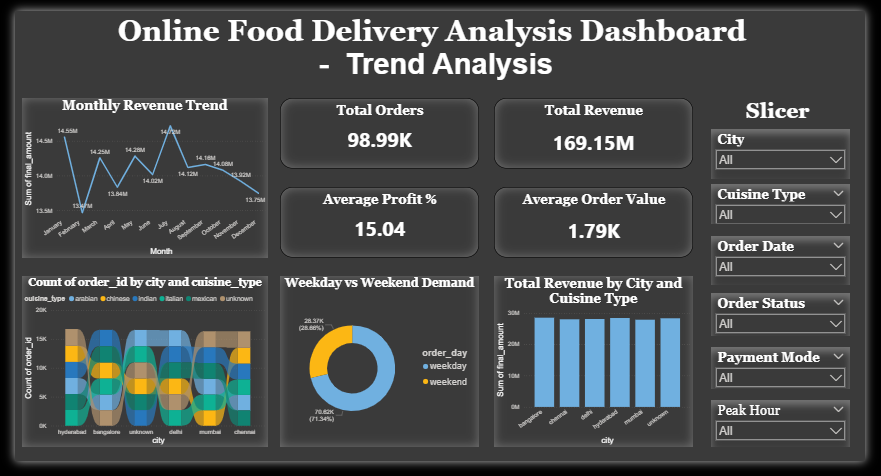

Layout of this report page (visuals, bound fields, positions):
{"tool":"powerbi","page":{"name":"Trend Analysis","canvas":[1700,900],"ordinal":0},"visuals":[{"type":"card","title":"Total Orders","fields":{"Values":["CountNonNull(online_food_cleaned.order_id)"]},"box":[530.1,173.7,398.5,140.8],"z":0},{"type":"card","title":"Total Revenue","fields":{"Values":["Sum(online_food_cleaned.final_amount)"]},"box":[957.8,173.7,398.5,140.8],"z":1000},{"type":"card","title":"Average Order Value","fields":{"Values":["Avg(online_food_cleaned.order_value)"]},"box":[957.8,352.8,398.5,140.8],"z":2000},{"type":"card","title":"Average Profit %","fields":{"Values":["Avg(online_food_cleaned.profit_margin_per)"]},"box":[530.1,352.8,398.5,140.8],"z":6000},{"type":"ribbonChart","fields":{"Category":["online_food_cleaned.city"],"Y":["CountNonNull(online_food_cleaned.order_id)"],"Series":["online_food_cleaned.cuisine_type"]},"box":[14.6,530.1,491.7,341.8],"z":7000},{"type":"donutChart","title":"Weekday vs Weekend Demand","fields":{"Category":["online_food_cleaned.order_day"],"Y":["CountNonNull(online_food_cleaned.order_id)"]},"box":[530.1,530.1,398.5,341.8],"z":9000},{"type":"lineChart","title":"Monthly Revenue Trend","fields":{"Category":["online_food_cleaned.order_date.Variation.Date Hierarchy.Month"],"Y":["Sum(online_food_cleaned.final_amount)"]},"box":[14.6,173.7,491.7,319.9],"z":10000},{"type":"columnChart","title":"Total Revenue by City and Cuisine Type","fields":{"Category":["online_food_cleaned.cuisine_type","online_food_cleaned.city"],"Y":["Sum(online_food_cleaned.final_amount)"]},"box":[957.8,530.1,398.5,341.8],"z":12001},{"type":"slicer","fields":{"Values":["online_food_cleaned.city"]},"box":[1392.9,235.8,277.8,98.7],"z":12002},{"type":"slicer","fields":{"Values":["online_food_cleaned.cuisine_type"]},"box":[1392.9,345.5,277.8,78.6],"z":12003},{"type":"slicer","fields":{"Values":["online_food_cleaned.order_date"]},"box":[1392.9,449.7,277.8,96.9],"z":12004},{"type":"slicer","fields":{"Values":["online_food_cleaned.order_status"]},"box":[1392.9,563,277.8,85.9],"z":12005},{"type":"slicer","fields":{"Values":["online_food_cleaned.payment_mode"]},"box":[1392.9,672.7,277.8,84.1],"z":12006},{"type":"slicer","fields":{"Values":["online_food_cleaned.peak_hour"]},"box":[1392.9,778.7,277.8,93.2],"z":12007},{"type":"textbox","box":[14,0,1656,170],"z":12008},{"type":"textbox","box":[1392.9,170,277.8,65.8],"z":12009}]}

Visuals, with their boxes in screenshot pixels (x1, y1, x2, y2), scaled from the page's 1700x900 canvas onto the 881x476 screenshot:
"Total Orders" card: bbox(275, 92, 481, 166)
"Total Revenue" card: bbox(496, 92, 703, 166)
"Average Order Value" card: bbox(496, 187, 703, 261)
"Average Profit %" card: bbox(275, 187, 481, 261)
ribbonChart - online_food_cleaned.city x CountNonNull(online_food_cleaned.order_id): bbox(8, 280, 262, 461)
"Weekday vs Weekend Demand" donutChart: bbox(275, 280, 481, 461)
"Monthly Revenue Trend" lineChart: bbox(8, 92, 262, 261)
"Total Revenue by City and Cuisine Type" columnChart: bbox(496, 280, 703, 461)
slicer - online_food_cleaned.city: bbox(722, 125, 866, 177)
slicer - online_food_cleaned.cuisine_type: bbox(722, 183, 866, 224)
slicer - online_food_cleaned.order_date: bbox(722, 238, 866, 289)
slicer - online_food_cleaned.order_status: bbox(722, 298, 866, 343)
slicer - online_food_cleaned.payment_mode: bbox(722, 356, 866, 400)
slicer - online_food_cleaned.peak_hour: bbox(722, 412, 866, 461)
textbox: bbox(7, 0, 865, 90)
textbox: bbox(722, 90, 866, 125)
